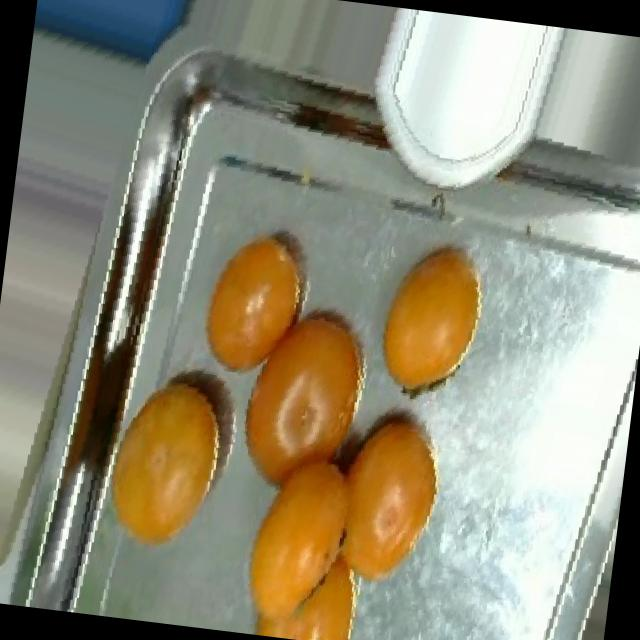Fruit: (312, 377, 468, 615), (94, 350, 245, 572), (182, 208, 340, 400), (356, 220, 506, 420), (223, 467, 372, 640)
